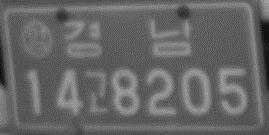0: (180, 66, 214, 118)
1: (25, 67, 47, 115)
2: (146, 66, 177, 117)
4: (54, 68, 84, 115)
5: (215, 64, 250, 117)
8: (110, 68, 140, 115)
경남_D: (62, 14, 195, 61)
고: (83, 67, 110, 115)
영: (20, 18, 54, 61)
